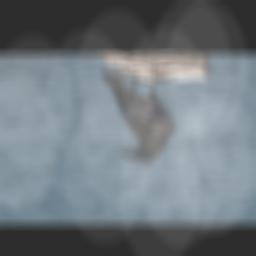Crow: (100, 69, 175, 162)
